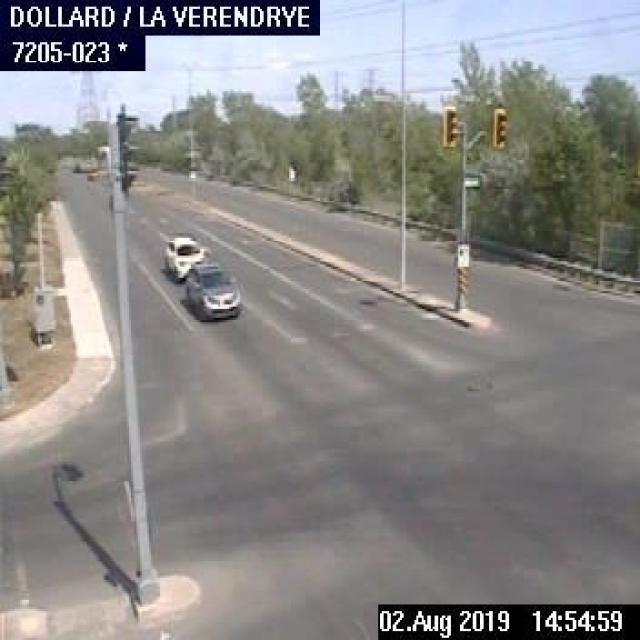vehicle: (183, 262, 239, 318), (160, 231, 207, 282)
